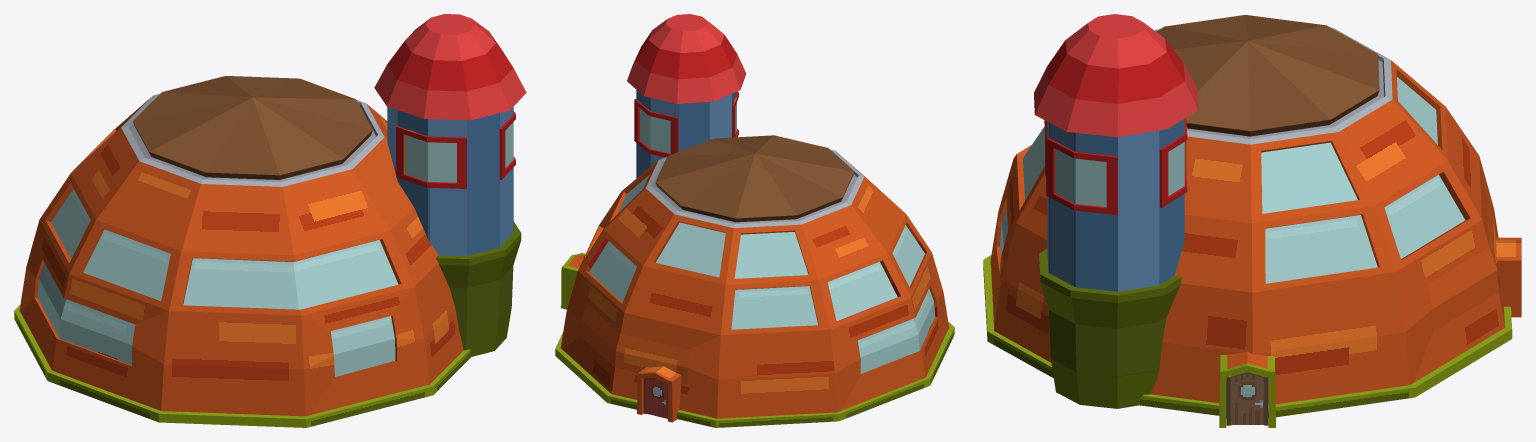
File: W.house_orange.gltf
The picture shows the model from 3 angles, left to right: view 1: azimuth 30°, elevation 25°; view 2: azimuth 150°, elevation 25°; view 3: azimuth 270°, elevation 25°; orthographic projection. The views are drawn at different scales.
Visible parts, largest first — view 1: s2_1, s2_2; view 2: s2_1, s2_2; view 3: s2_1, s2_2.
Part boxes in pixels (<box>): s2_1: <box>14,76,471,427</box>; s2_2: <box>374,14,526,356</box>; s2_1: <box>555,135,954,427</box>; s2_2: <box>627,14,746,178</box>; s2_1: <box>983,15,1521,427</box>; s2_2: <box>1034,14,1198,408</box>.
Bounding box in the file's own units: 6.39 × 4.44 × 6.08.
1 material, 1 textured.
